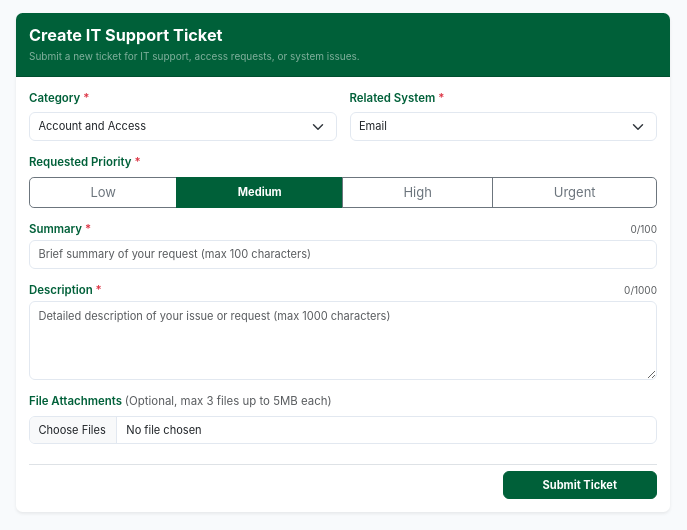
Scenario: Lab 02 - CreateTicketForm Component & Integration Suite › updates real-time character counters for summary and description
Type "VPN Access Error" into the field with test id "summary-input" at (343, 255), box [29,240,657,269]
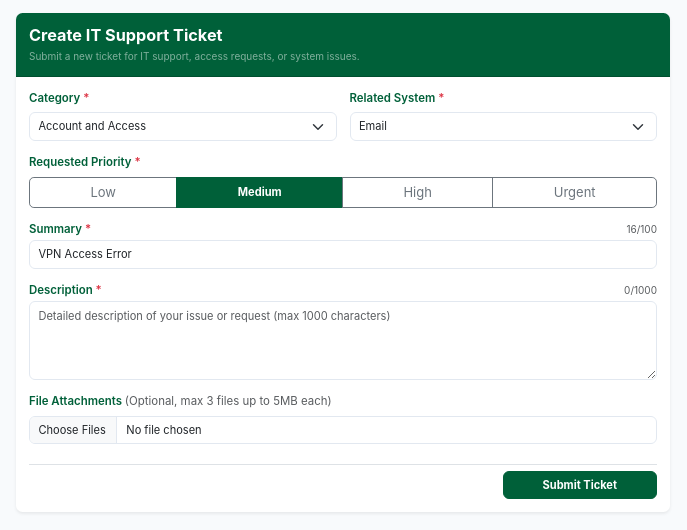
Expected: the text with test id "summary-char-counter" reads "16/100", [626,222,657,236]
Replace the text in the text box with test id "description-input" with "Cannot authenticate with VPN server." at (343, 341), box [29,301,657,380]
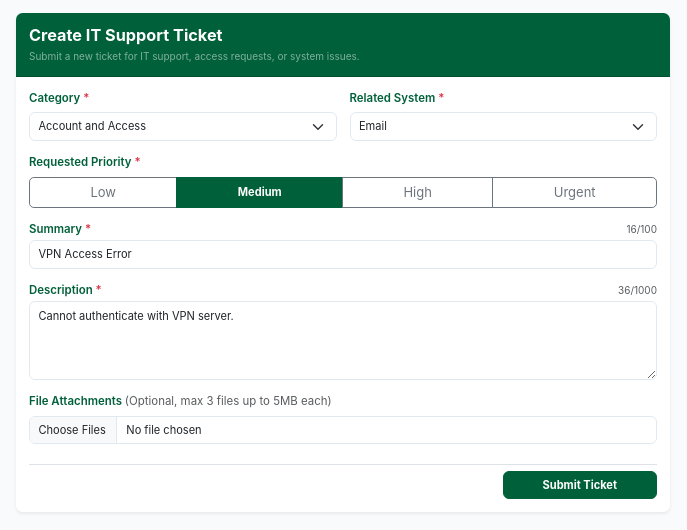
Expected: the text with test id "description-char-counter" reads "36/1000", [618,283,657,297]
